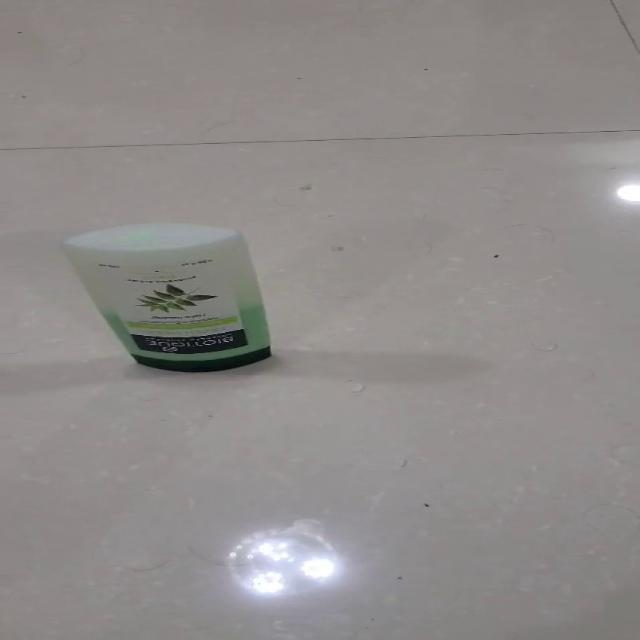plastic: (59, 221, 272, 373)
